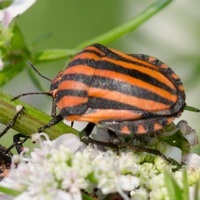insect: (34, 44, 197, 166)
